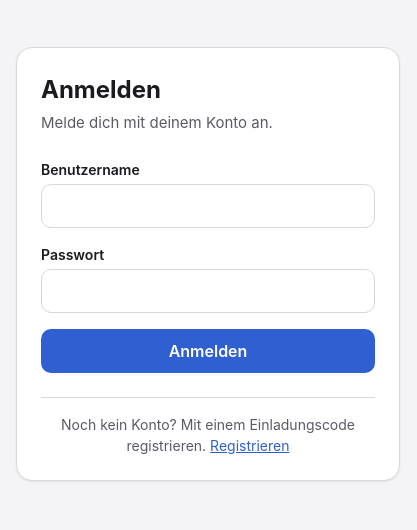
LoginPage › catches an impossible username before the request
Type "a!" into the field labelled "Benutzername" at (208, 206), box x1=41 y1=184 x2=375 y2=228
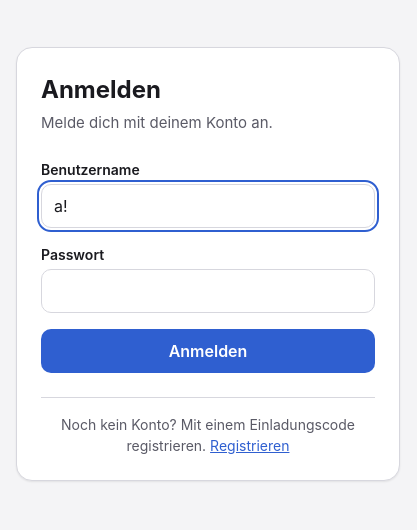
Type "ein-gutes-passwort" into the password field labelled "Passwort" at (208, 291), box x1=41 y1=269 x2=375 y2=313
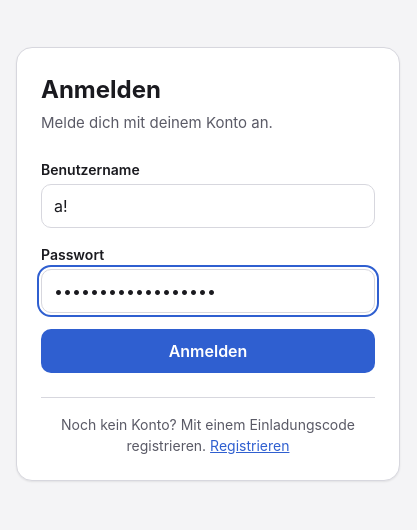
Click the button "Anmelden" at (208, 351), box x1=41 y1=329 x2=375 y2=373
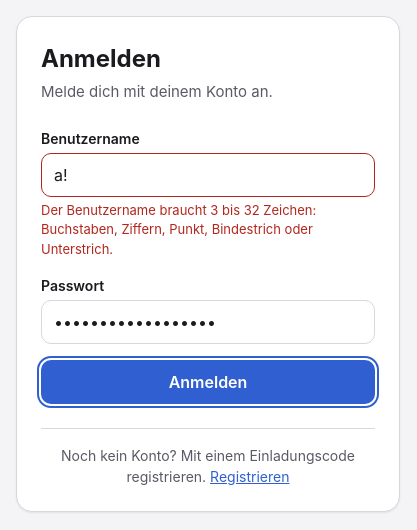
Check: the text "Der Benutzername braucht 3 bis 32 Zeichen: Buchstaben, Ziffern, Punkt, Bindestrich oder Unterstrich." is shown, box x1=41 y1=202 x2=316 y2=256
